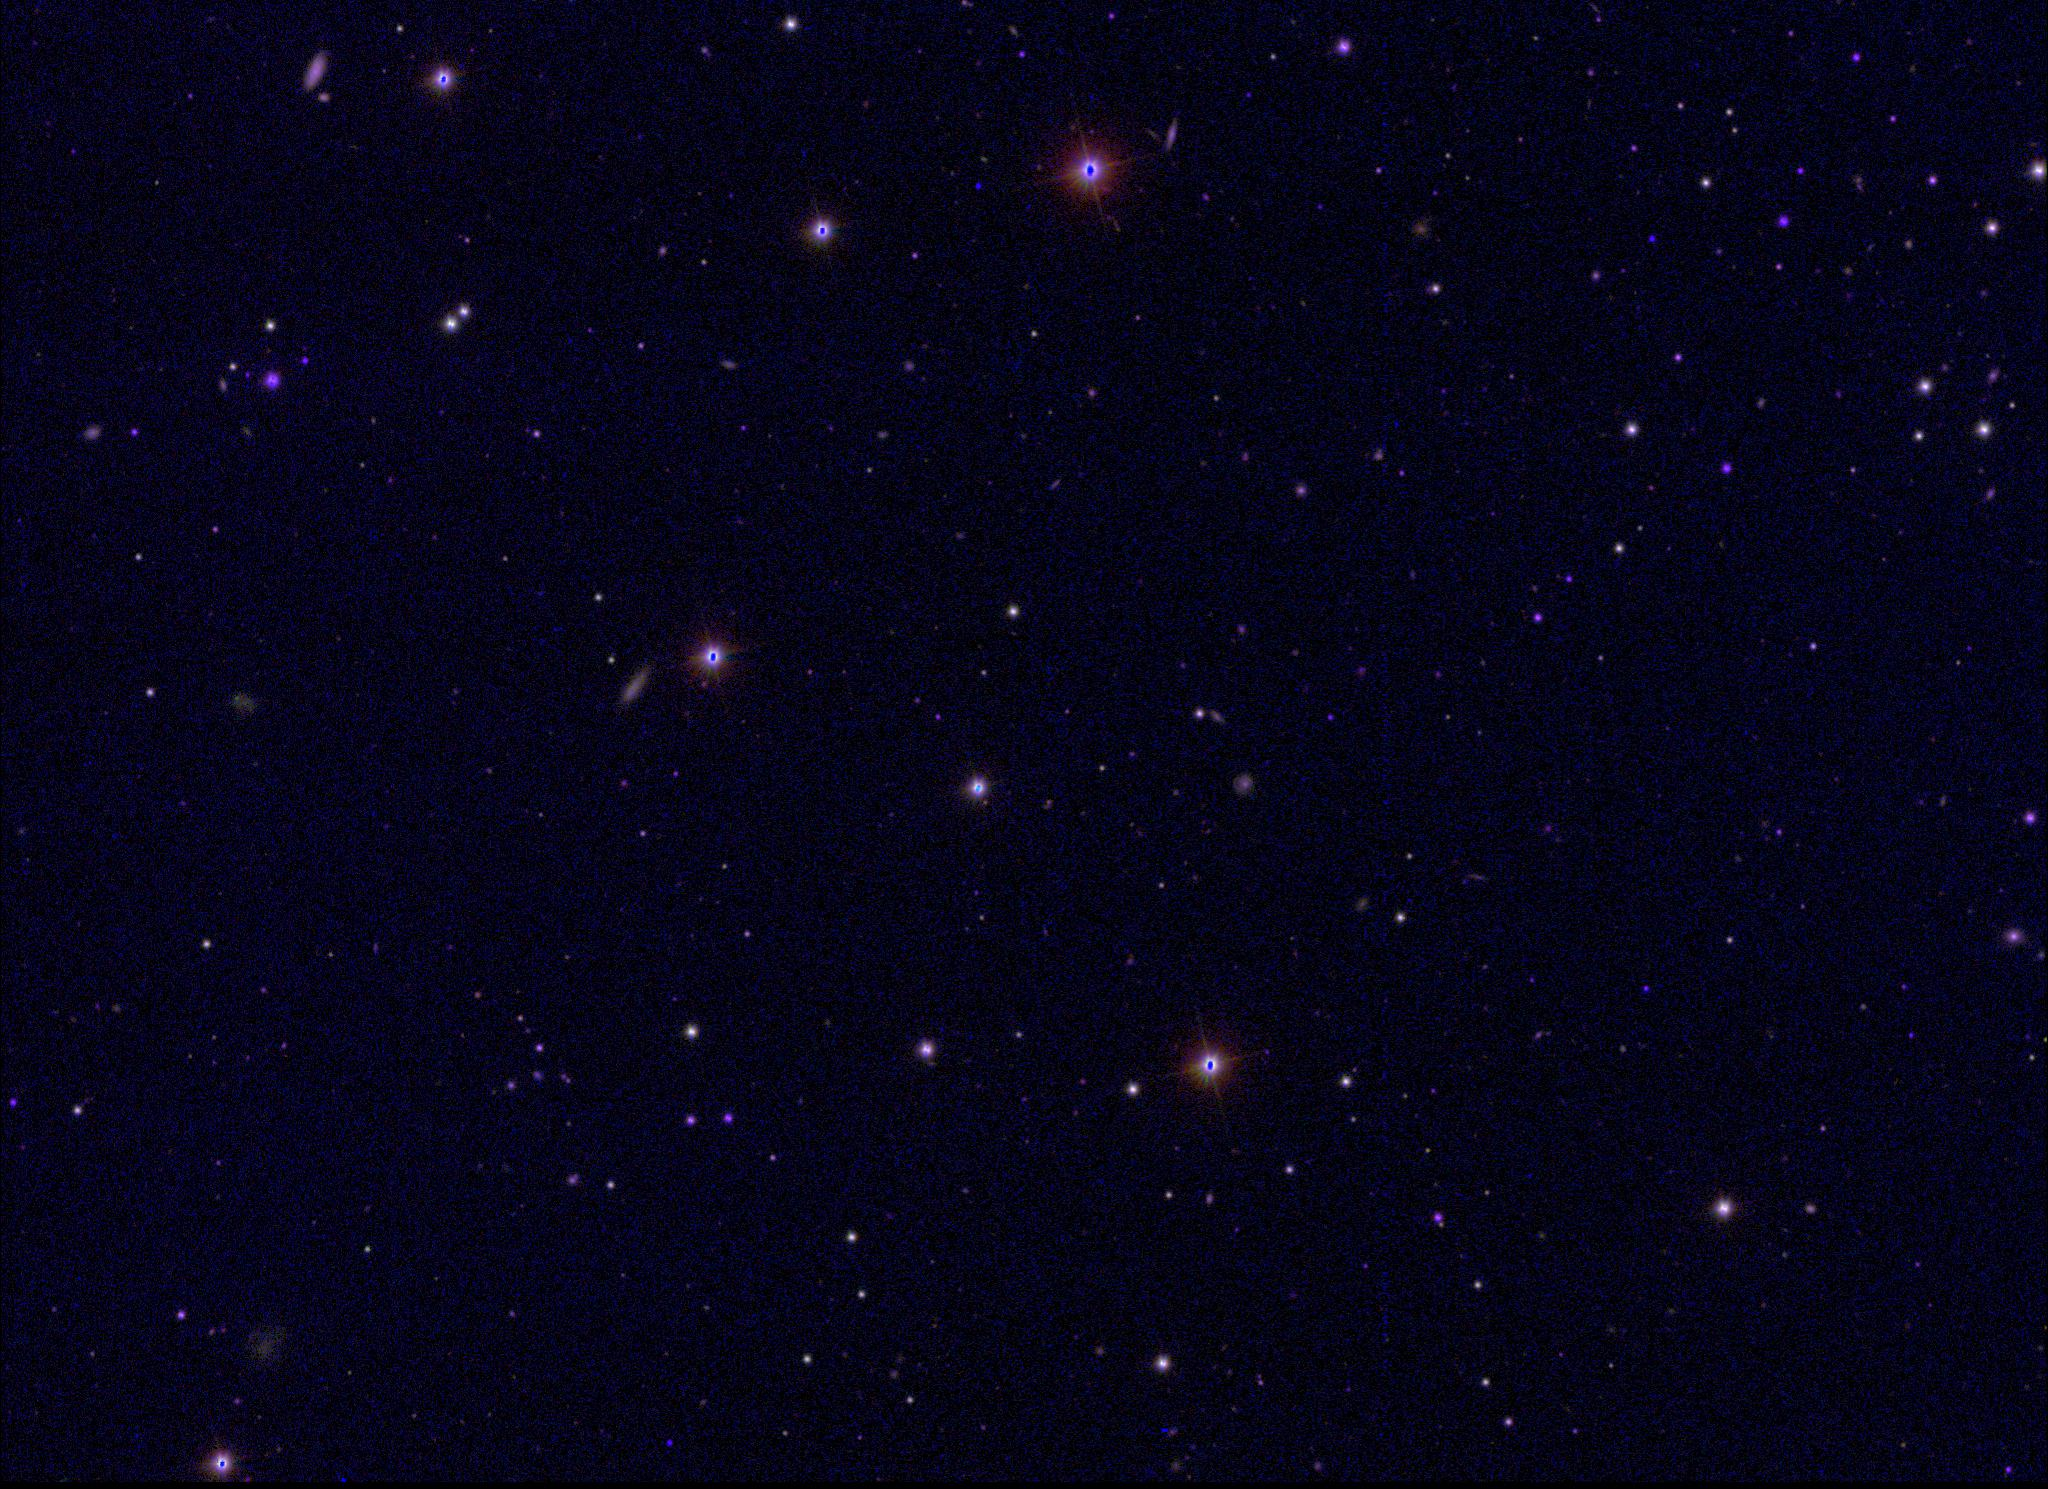L: (972, 180, 984, 192)
